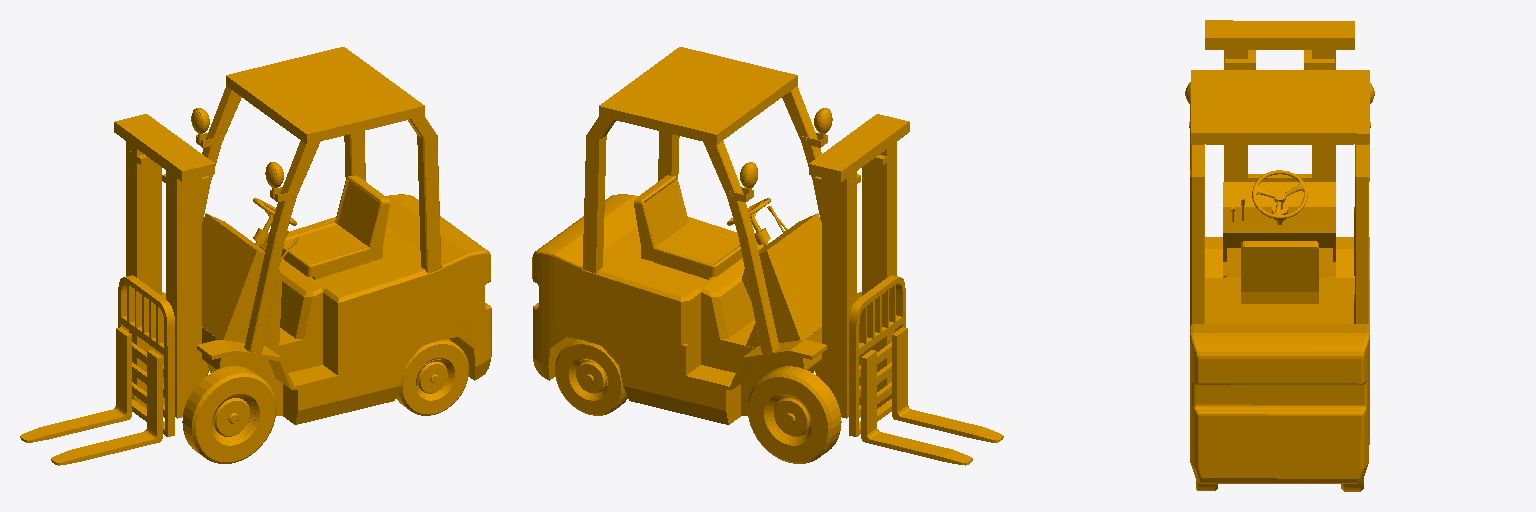
URDF robot description (forklift):
<robot name="forklift">
  <material name="Box_color">
    <color rgba="0.678 0.529 0.384 1.0"/>
  </material>
  <material name="Green">
    <color rgba="0 1 0 1.0"/>
  </material>

    <link name="base">
        <visual>
            <origin xyz="-1 0 0" rpy="1.57 0 0"/>
            <geometry>
                <mesh filename="meshes/Forklift.obj" scale="0.004 0.004 0.004"/>
            </geometry>

        </visual>


 
    </link>
</robot>

--- What the picture shows (computed from the rendered views, not written in the file) ---
Views: 3 orthographic renders of the robot side by side, from view 1: azimuth 30°, elevation 25°; view 2: azimuth 150°, elevation 25°; view 3: azimuth 270°, elevation 25°.
Model forklift with 1 links and 0 joints (none), rooted at base, posed all joints at 0.
Links seen in each view (by area): view 1: base; view 2: base; view 3: base.
Boxes of the visible links, x1,y1,x2,y2 form: base: (20, 47, 491, 465); base: (532, 47, 1003, 465); base: (1185, 20, 1374, 491).
Size in the robot's own frame: 2.82 by 1.01 by 2.04 metres.
Meshes: 1 distinct files referenced, 1 mesh visuals loaded (1 OBJ).
